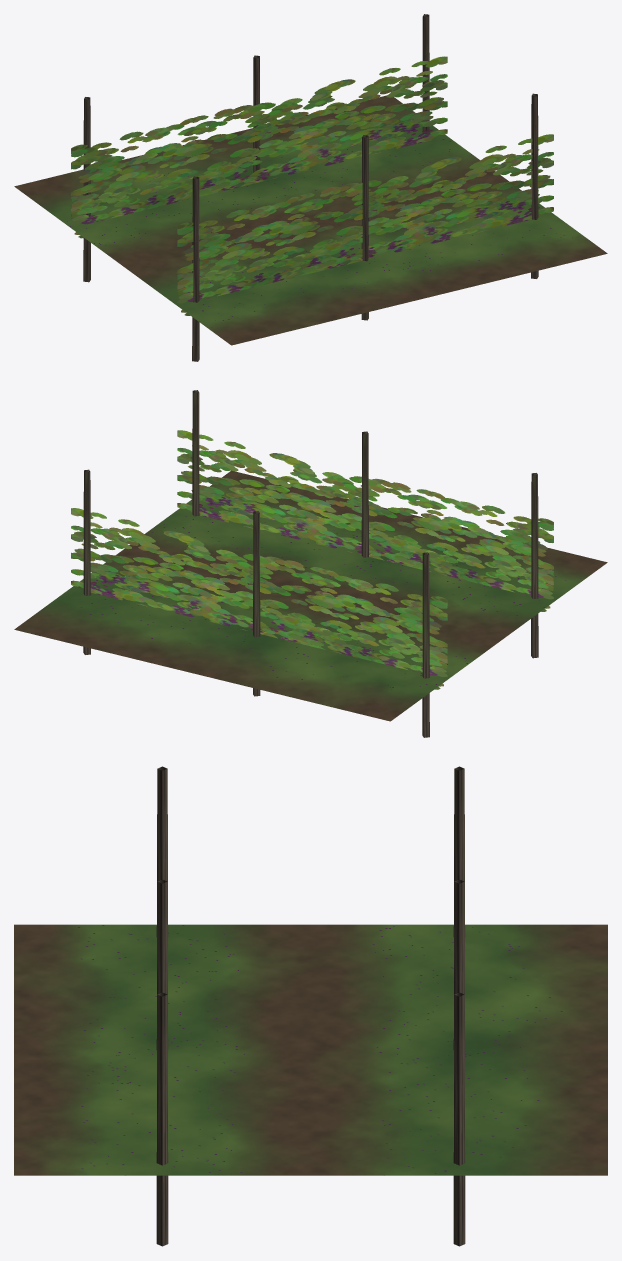
The model's file is Crop_Vine_1_LOD1.gltf.
3 views of the same model, one above another, from view 1: azimuth 30°, elevation 25°; view 2: azimuth 150°, elevation 25°; view 3: azimuth 270°, elevation 25° (orthographic). The views are drawn at different scales.
Parts seen in each view (by area): view 1: Crop_Vine_1_LOD1; view 2: Crop_Vine_1_LOD1; view 3: Crop_Vine_1_LOD1.
Boxes of the visible parts, x1,y1,x2,y2 form: Crop_Vine_1_LOD1: [14, 14, 607, 361]; Crop_Vine_1_LOD1: [14, 390, 607, 737]; Crop_Vine_1_LOD1: [14, 766, 607, 1246].
Bounding box in the file's own units: 4 × 1.85 × 4.
Materials: 3 (3 with a texture image).
